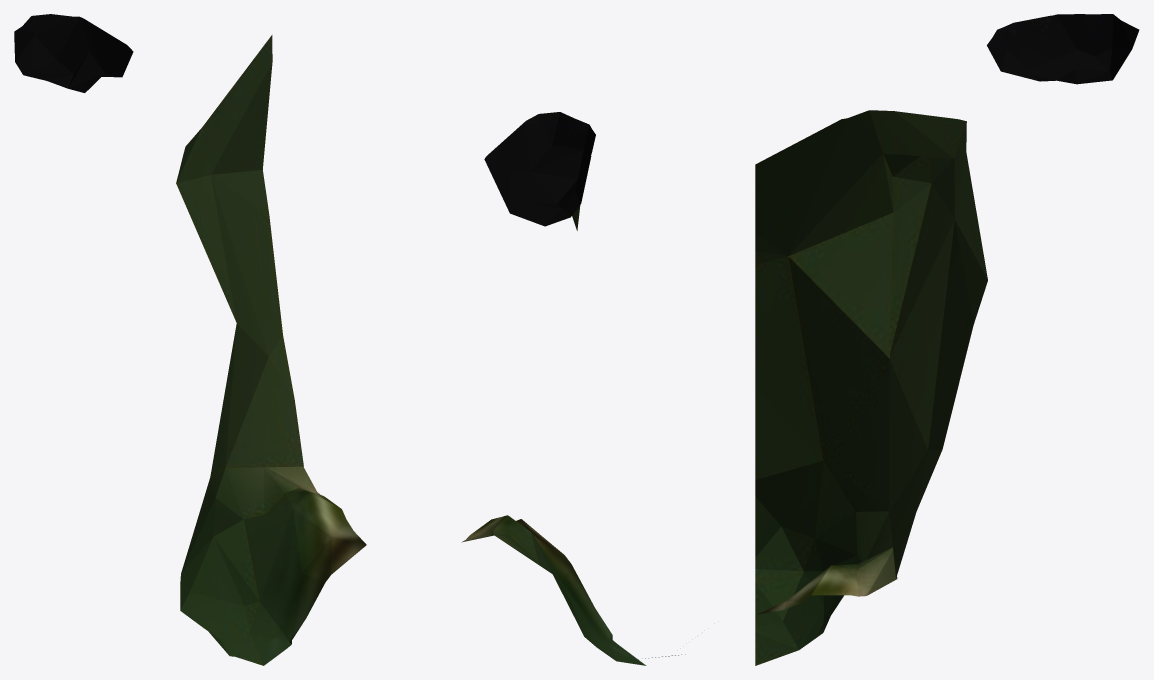
The picture shows the model from 3 angles, left to right: view 1: azimuth 30°, elevation 25°; view 2: azimuth 150°, elevation 25°; view 3: azimuth 270°, elevation 25°; orthographic projection. The views are drawn at different scales.
Size of the model in its own units: 0.2936 by 0.7843 by 0.4527.
1 material, 1 textured.
